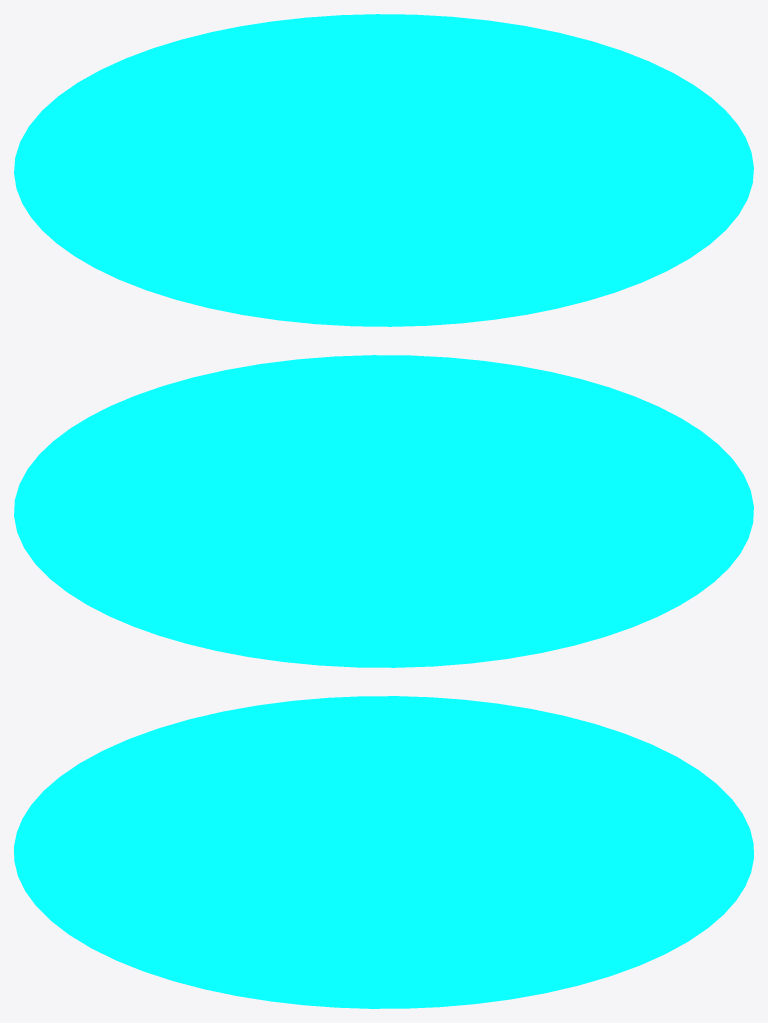
The picture shows the model from 3 angles, top to bottom: view 1: azimuth 30°, elevation 25°; view 2: azimuth 150°, elevation 25°; view 3: azimuth 270°, elevation 25°; orthographic projection.
Parts seen in each view (by area): view 1: transp (×3); view 2: transp (×3); view 3: transp (×3).
Part boxes in pixels (x1,y1,x2,y2): transp (×3): (14,14,753,326); transp (×3): (14,355,753,667); transp (×3): (14,696,753,1008).
Bounding box in the file's own units: 45.38 × 0.6763 × 45.38.
